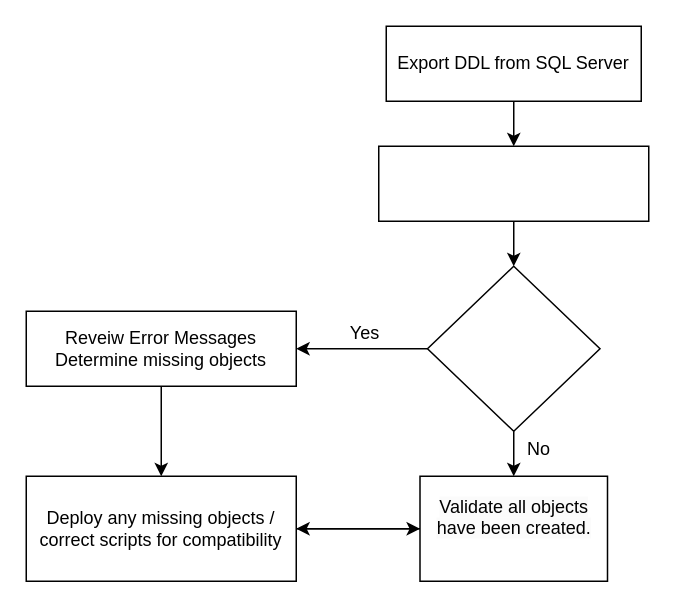
This 675x609 diagram has some shape labels left out. Here are the shapes that lost their labels. From the top down, the box of each, then its label:
(377, 145, 649, 221): Deploy into Babelfish
(426, 265, 600, 431): Are there Errors?
